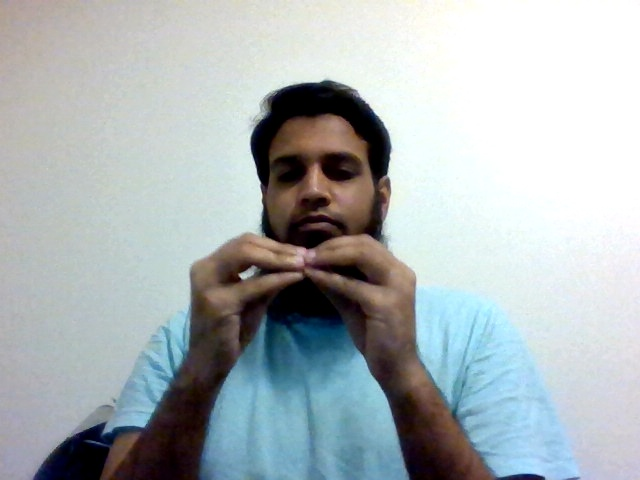more: (187, 229, 423, 375)
